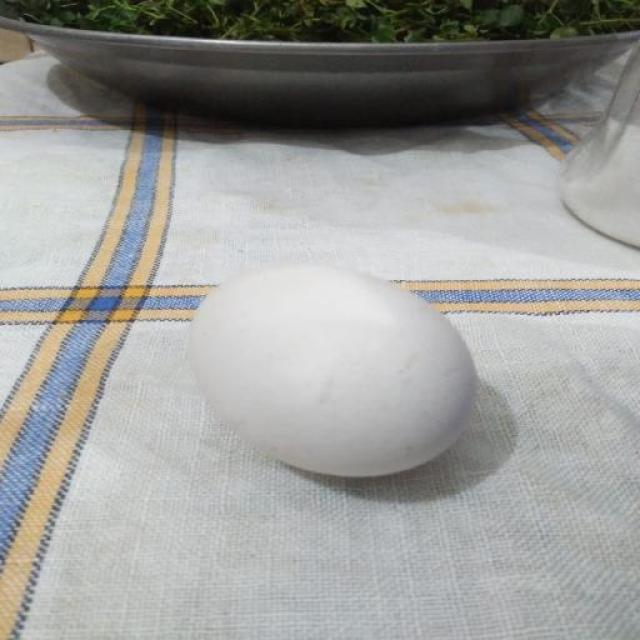telur: (188, 260, 472, 479)
